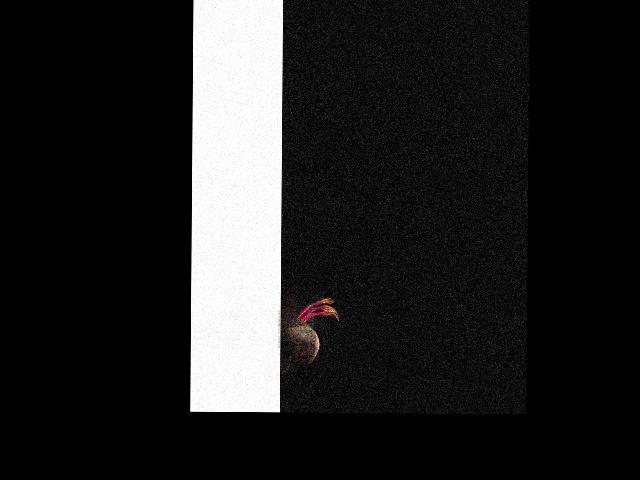beet: (280, 297, 338, 377)
